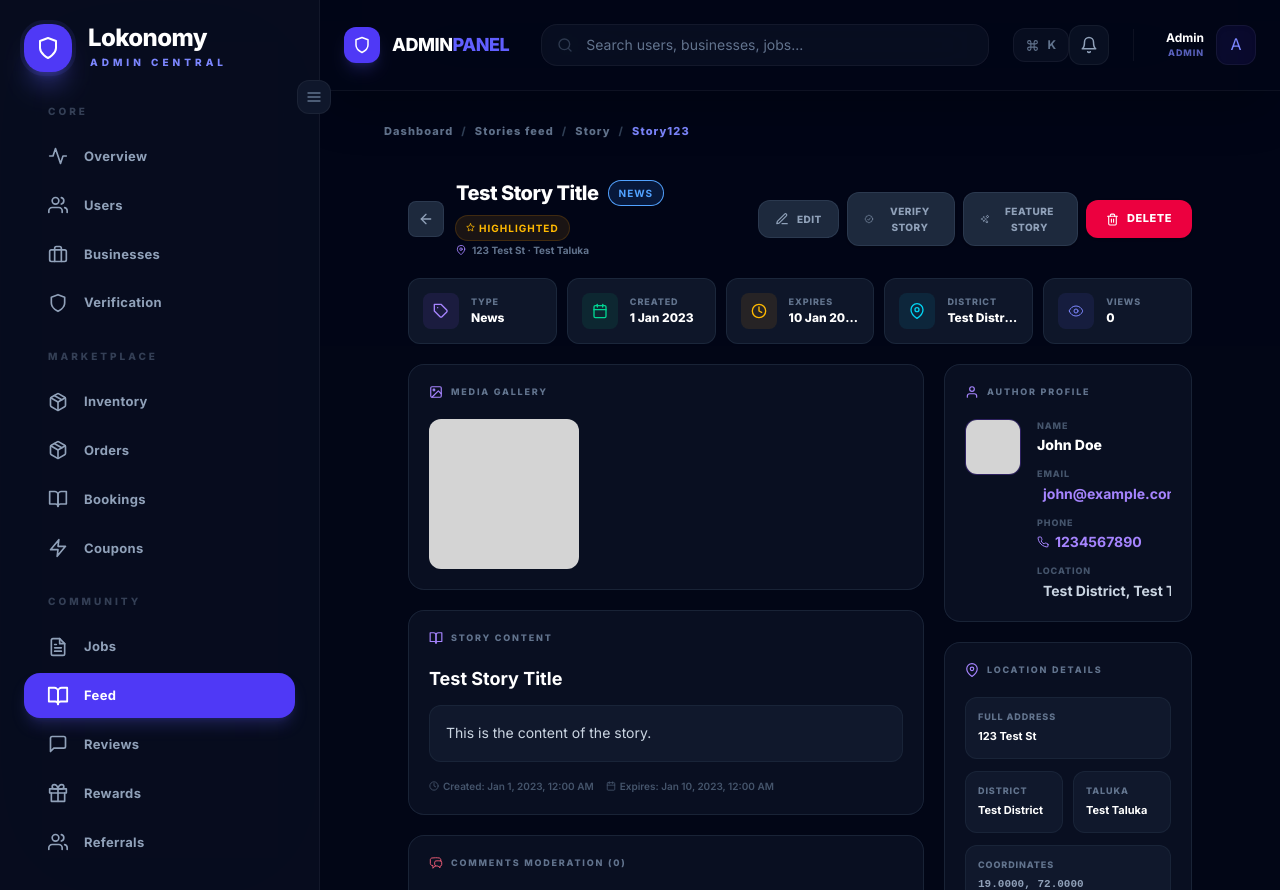
Test case: AdminStoryDetails Component › opens delete modal and cancels deletion
Expected: the 1st heading "Test Story Title" is shown, top-left (456, 181), bottom-right (598, 206)
Step 1. Click the button "Delete" → coordinates (1139, 219), box top-left (1086, 200), bottom-right (1192, 238)
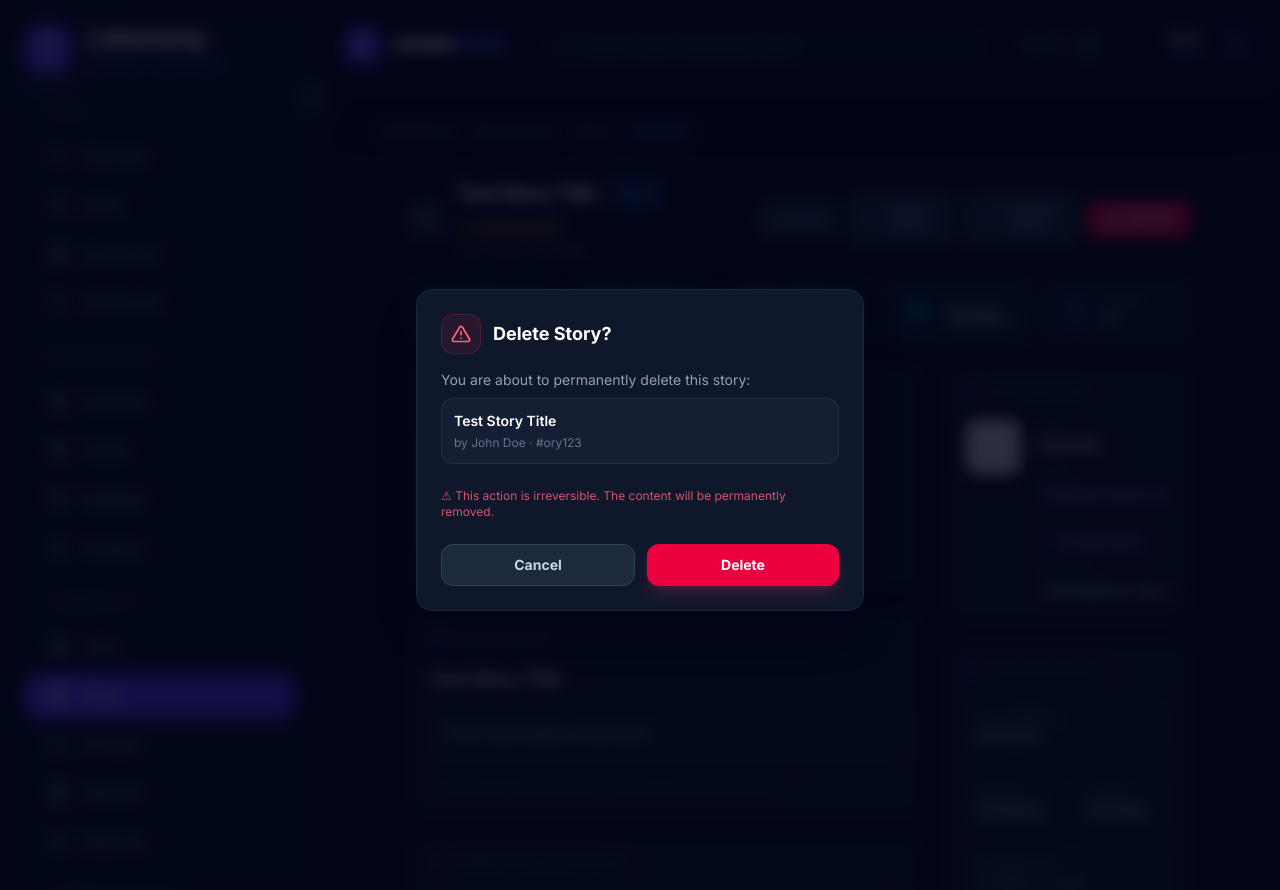
Now the heading "Delete Story?" is shown, box top-left (493, 320), bottom-right (612, 348)
Step 2. Click the button "Cancel" → coordinates (538, 565), box top-left (441, 544), bottom-right (635, 586)
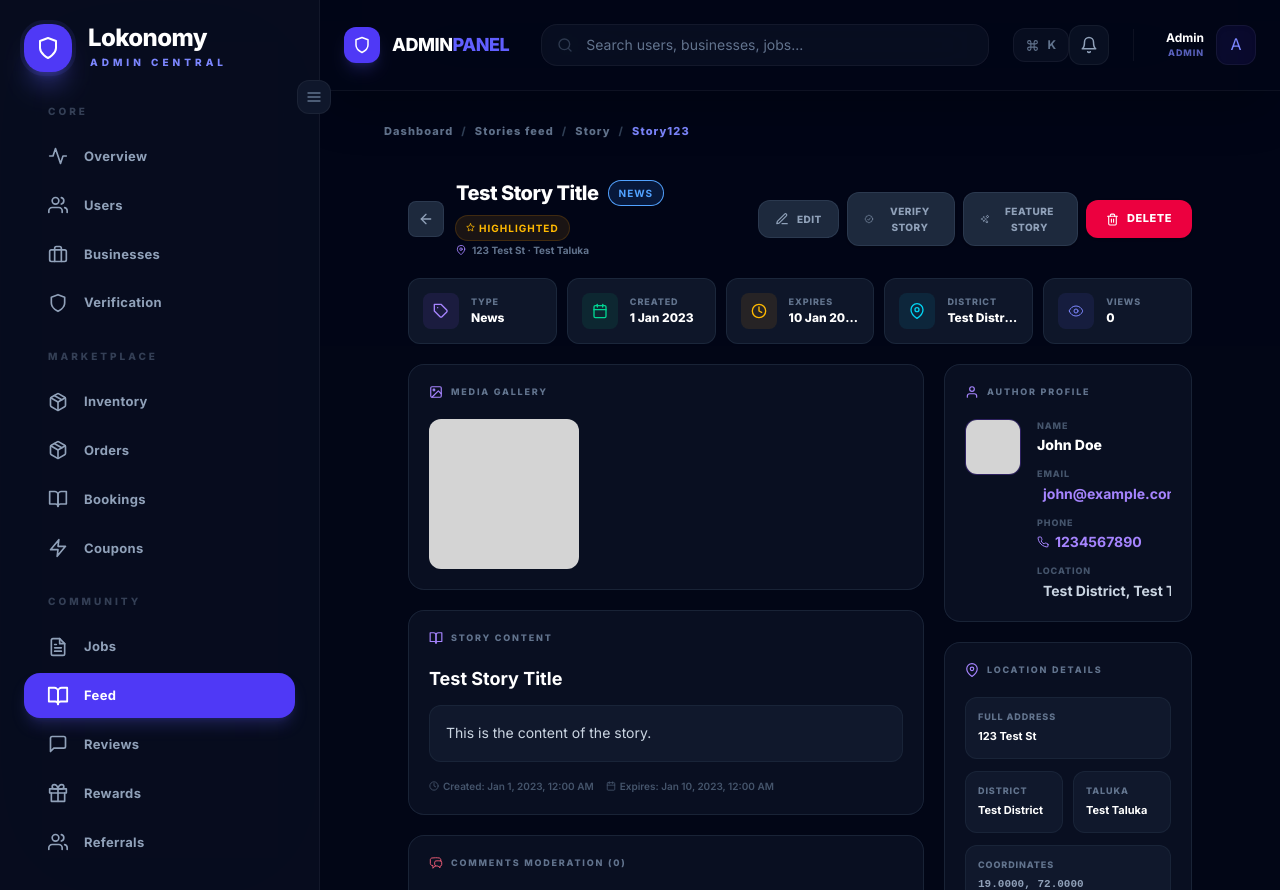
Now the heading "Delete Story?" is gone
